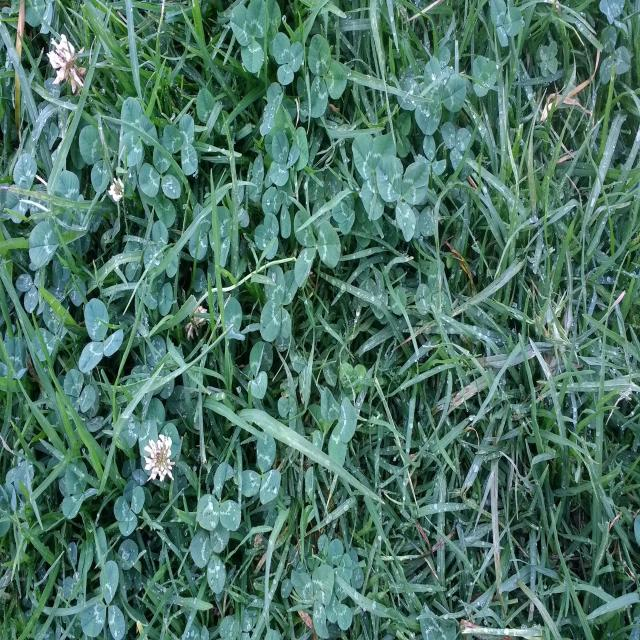Four Leaf Clover: (260, 264, 298, 341)
